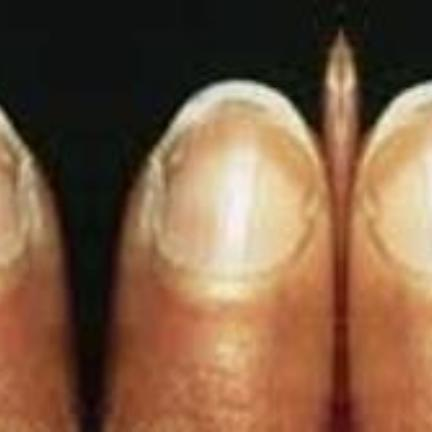Nail: (158, 80, 324, 275), (358, 81, 432, 275), (0, 109, 22, 260)
